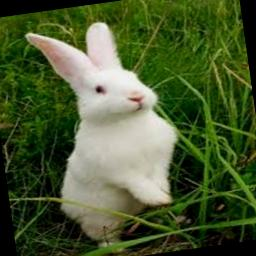rabbit: (25, 23, 177, 245)
